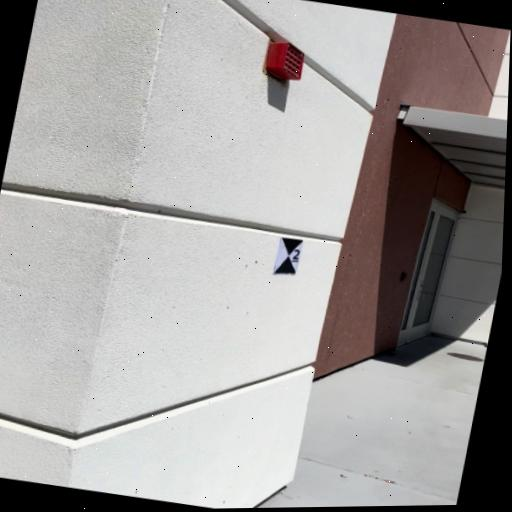target2: (272, 237, 304, 274)
